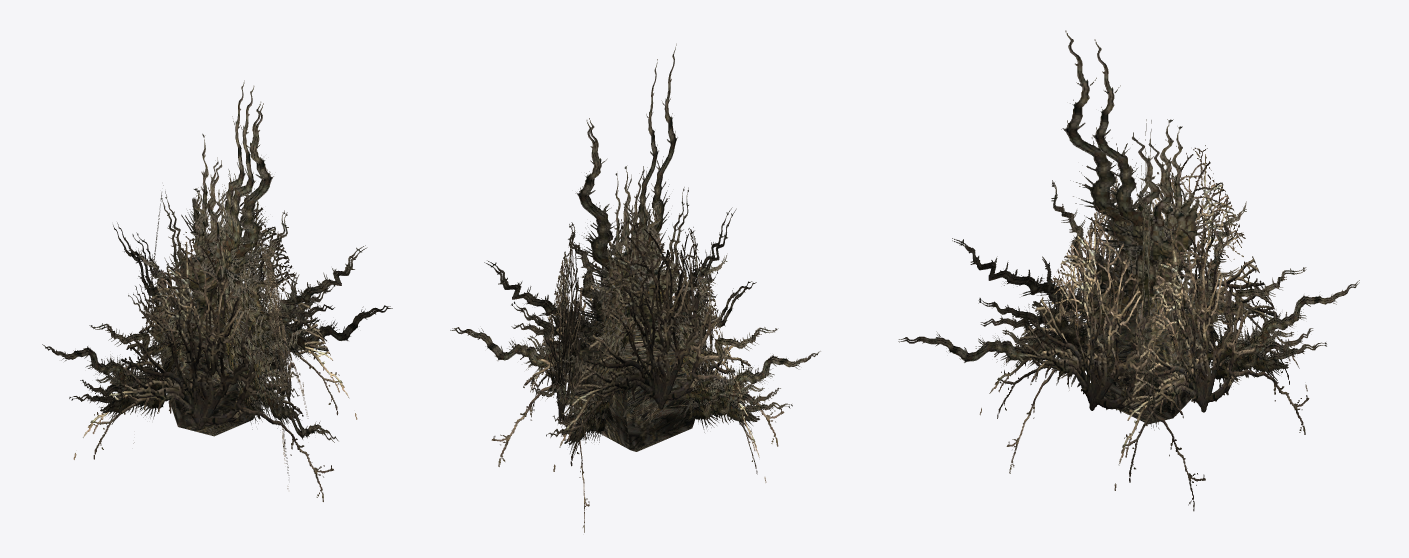
File: poi_all_lair_brambles_large_l1.fbx
3 renders of one model, left to right at view 1: azimuth 30°, elevation 25°; view 2: azimuth 150°, elevation 25°; view 3: azimuth 270°, elevation 25°, orthographic. The views are drawn at different scales.
Parts seen in each view (by area): view 1: mesh_node; view 2: mesh_node; view 3: mesh_node.
Part boxes in pixels (bbox=[...]): mesh_node: bbox=[42, 80, 392, 501]; mesh_node: bbox=[450, 43, 820, 532]; mesh_node: bbox=[898, 30, 1359, 511].
Bounding box in the file's own units: 6.23 × 6.55 × 6.67.
